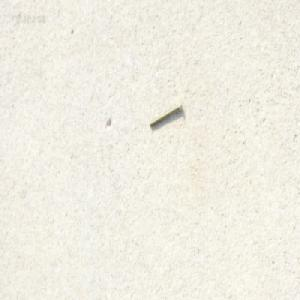Bolt: (148, 100, 182, 129)
